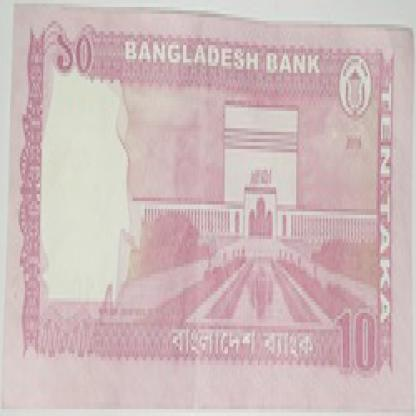Ten Taka: (48, 7, 102, 83), (338, 292, 376, 375)
